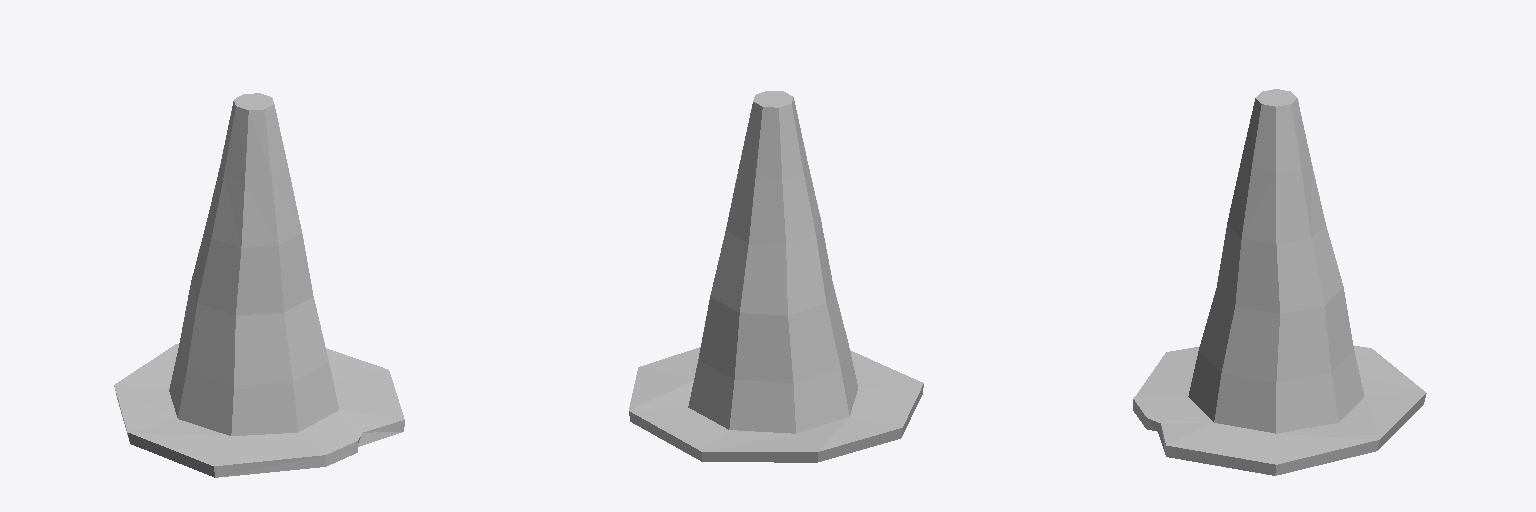
File: stozec.obj
3 renders of one model, left to right at view 1: azimuth 30°, elevation 25°; view 2: azimuth 150°, elevation 25°; view 3: azimuth 270°, elevation 25°, orthographic.
Visible parts, largest first — view 1: Circle_Circle.001; view 2: Circle_Circle.001; view 3: Circle_Circle.001.
Boxes of the visible parts, box(x1,y1,x2,y2) form: Circle_Circle.001: box(114, 93, 404, 477); Circle_Circle.001: box(629, 91, 923, 462); Circle_Circle.001: box(1133, 89, 1426, 475).
Size of the model in its own units: 5.28 by 5.99 by 5.1.